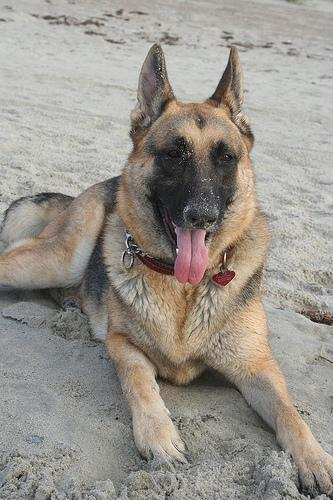German_shepherd: (0, 17, 331, 498)
